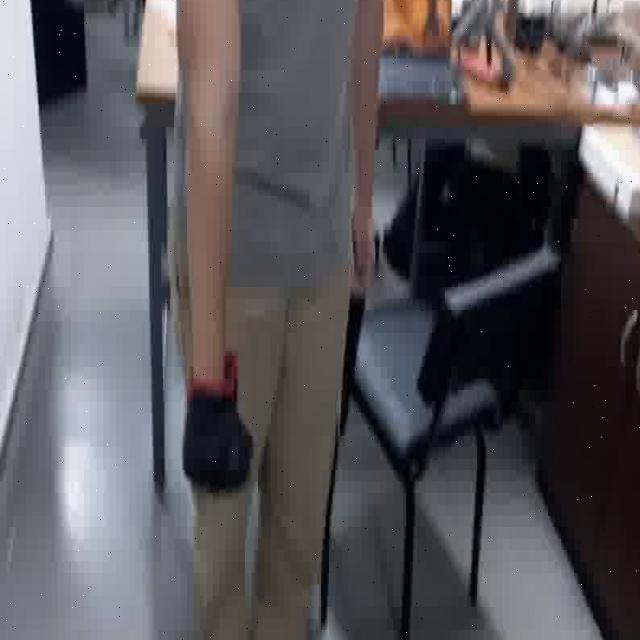Gloves: (168, 359, 265, 516)
